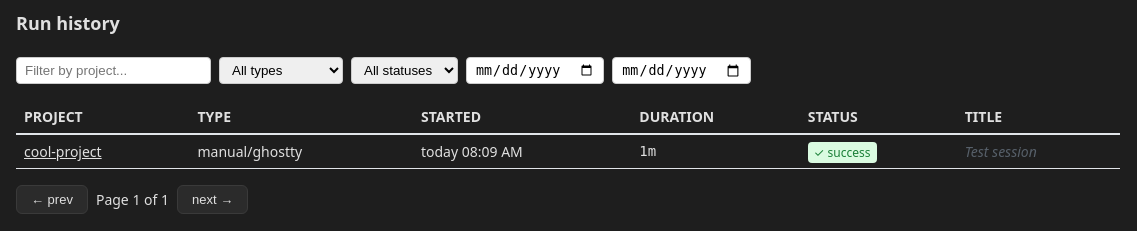
Test: AC#6: clicking project name sets project filter › project input is updated after clicking project link
The width and height of the screenshot is (1137, 231).
Click the text with test id "project-link-1" at (63, 152), box [24,142,102,161]
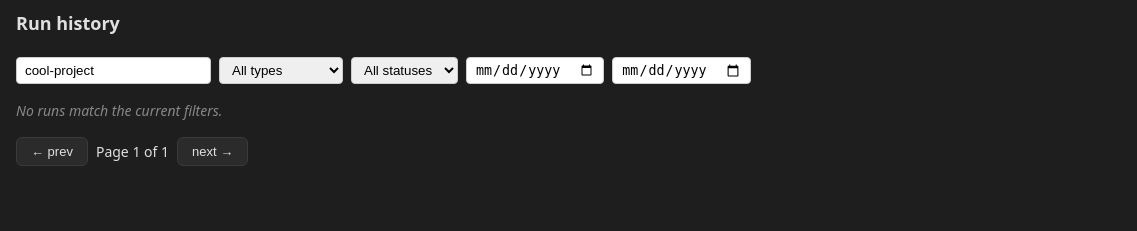
Result: the field with test id "filter-project" holds "cool-project" at [16,57,211,84]
